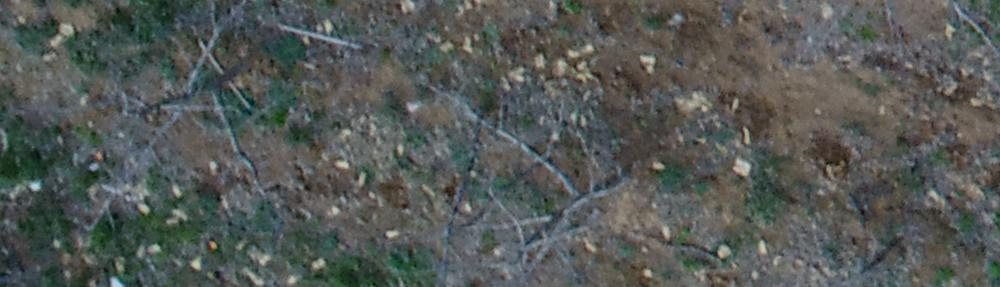apple: (408, 68, 651, 276), (75, 10, 300, 187)
